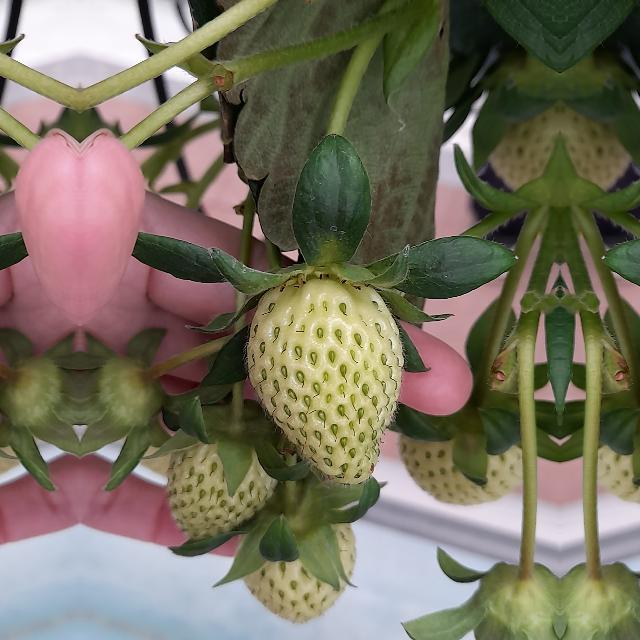Health_25: (247, 275, 403, 483), (245, 510, 361, 626), (165, 424, 277, 536)
